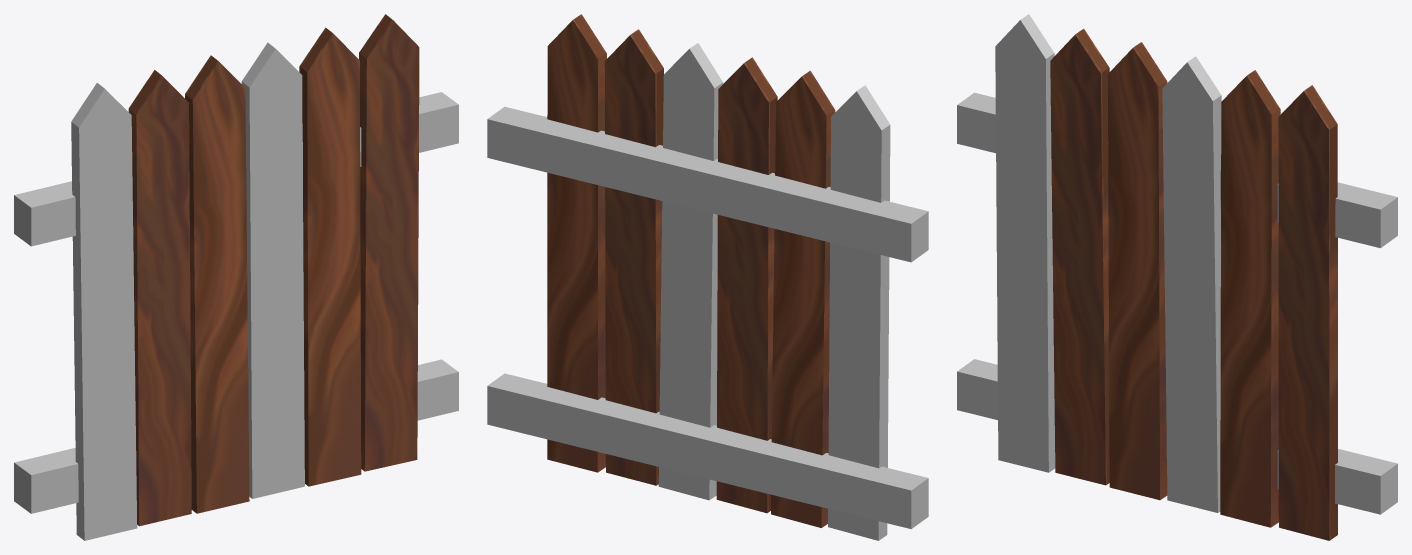
Rendered from Fence_ScaleFixed.fbx.
3 renders of one model, left to right at view 1: azimuth 30°, elevation 25°; view 2: azimuth 150°, elevation 25°; view 3: azimuth 330°, elevation 25°, orthographic.
Visible parts, largest first — view 1: Plane.003, Plane.005, Plane.001, Plane.004, Plane, Plane.002, Cube.002, Cube; view 2: Cube.002, Cube, Plane.003, Plane.005, Plane, Plane.002, Plane.001, Plane.004; view 3: Plane.005, Plane.004, Plane.001, Plane.003, Plane.002, Plane, Cube.002, Cube.
Part boxes in pixels (<box>): Plane.003: <box>71,83,137,540</box>; Plane.005: <box>359,14,419,471</box>; Plane.001: <box>185,55,249,513</box>; Plane.004: <box>299,27,361,486</box>; Plane: <box>241,42,304,498</box>; Plane.002: <box>128,70,191,526</box>; Cube.002: <box>14,359,458,513</box>; Cube: <box>14,92,458,246</box>; Cube.002: <box>487,373,928,529</box>; Cube: <box>487,106,928,262</box>; Plane.003: <box>828,85,890,540</box>; Plane.005: <box>547,14,606,472</box>; Plane: <box>658,43,723,500</box>; Plane.002: <box>771,70,835,527</box>; Plane.001: <box>716,57,777,513</box>; Plane.004: <box>604,29,663,485</box>; Plane.005: <box>1278,85,1337,540</box>; Plane.004: <box>1220,70,1280,527</box>; Plane.001: <box>1108,42,1167,500</box>; Plane.003: <box>995,14,1055,472</box>; Plane.002: <box>1050,28,1109,485</box>; Plane: <box>1162,56,1221,512</box>; Cube.002: <box>957,359,1397,514</box>; Cube: <box>957,92,1397,248</box>.
Bounding box in the file's own units: 200 × 200 × 20.12.
